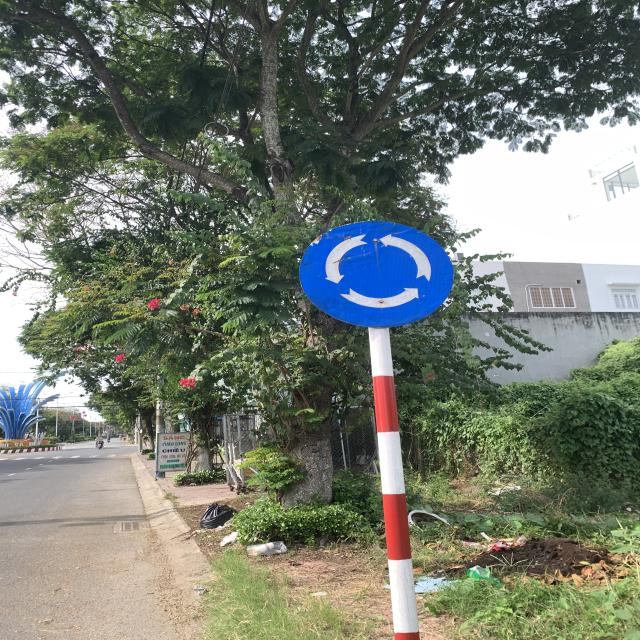Xe_Bus: (299, 220, 457, 329)
